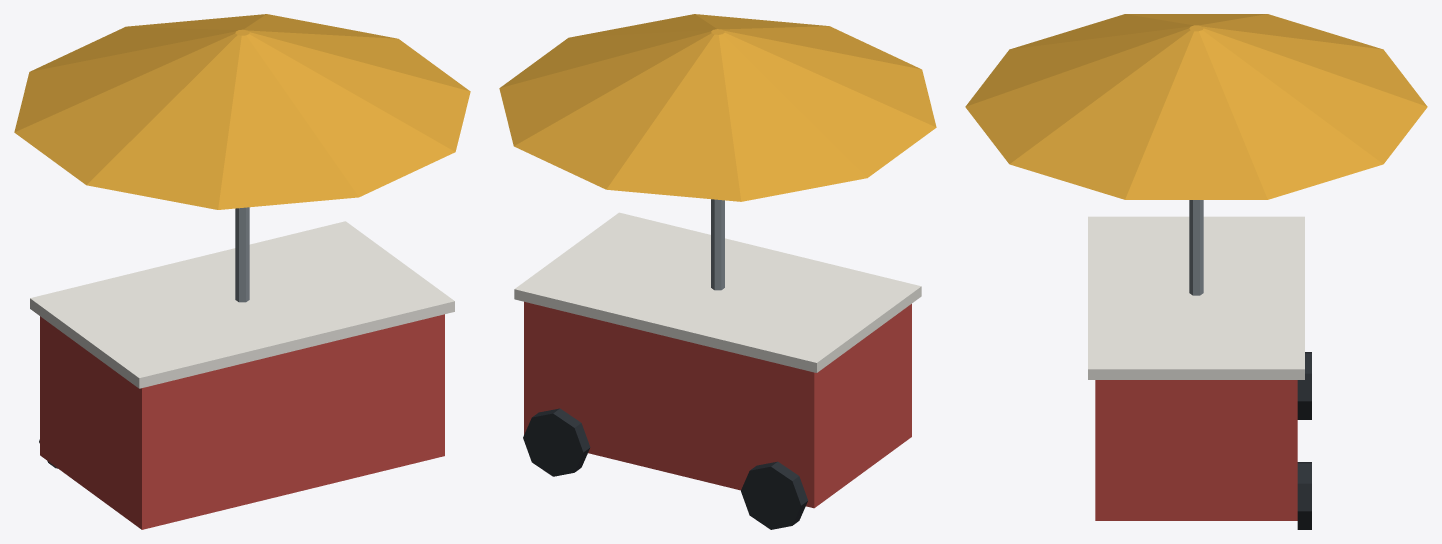
Rendered from kiosk.glb.
3 renders of one model, left to right at view 1: azimuth 30°, elevation 25°; view 2: azimuth 150°, elevation 25°; view 3: azimuth 270°, elevation 25°, orthographic. The views are drawn at different scales.
Visible parts, largest first — view 1: Cube.001; view 2: Cube.001; view 3: Cube.001.
Boxes of the visible parts, x1,y1,x2,y2 form: Cube.001: (14, 14, 470, 529); Cube.001: (499, 14, 936, 529); Cube.001: (965, 14, 1427, 529).
Bounding box in the file's own units: 3.04 × 3.4 × 3.2.
